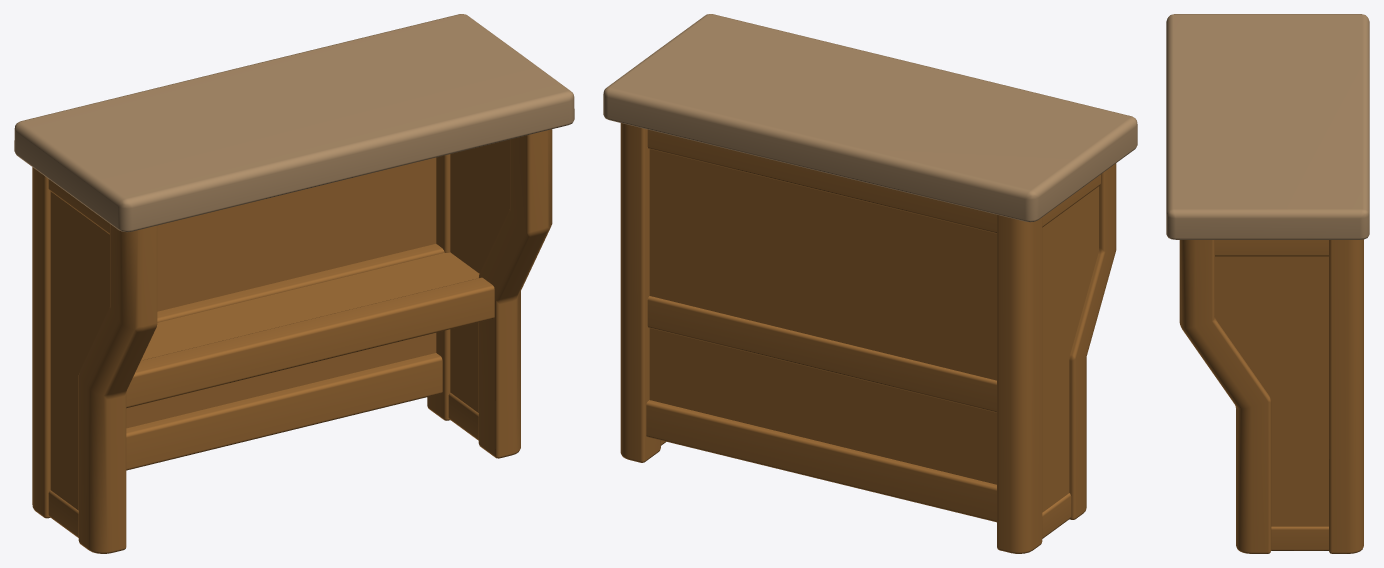
Rendered from SM_Shelf_Top_Wood_01.fbx.
3 views of the same model, side by side, from view 1: azimuth 30°, elevation 25°; view 2: azimuth 150°, elevation 25°; view 3: azimuth 270°, elevation 25° (orthographic). The views are drawn at different scales.
Visible parts, largest first — view 1: Cube.014, Cube.016, Cube.015; view 2: Cube.015, Cube.014, Cube.016; view 3: Cube.016, Cube.014, Cube.015.
Part boxes in pixels (x1=…): Cube.014: x1=32, y1=129, x2=552, y2=553; Cube.016: x1=14, y1=14, x2=574, y2=232; Cube.015: x1=50, y1=139, x2=509, y2=510; Cube.015: x1=649, y1=149, x2=1098, y2=512; Cube.014: x1=620, y1=123, x2=1116, y2=553; Cube.016: x1=603, y1=14, x2=1137, y2=222; Cube.016: x1=1166, y1=14, x2=1369, y2=239; Cube.014: x1=1179, y1=239, x2=1363, y2=553; Cube.015: x1=1215, y1=256, x2=1328, y2=526.
Size of the model in its own units: 148 by 120 by 63.49.
